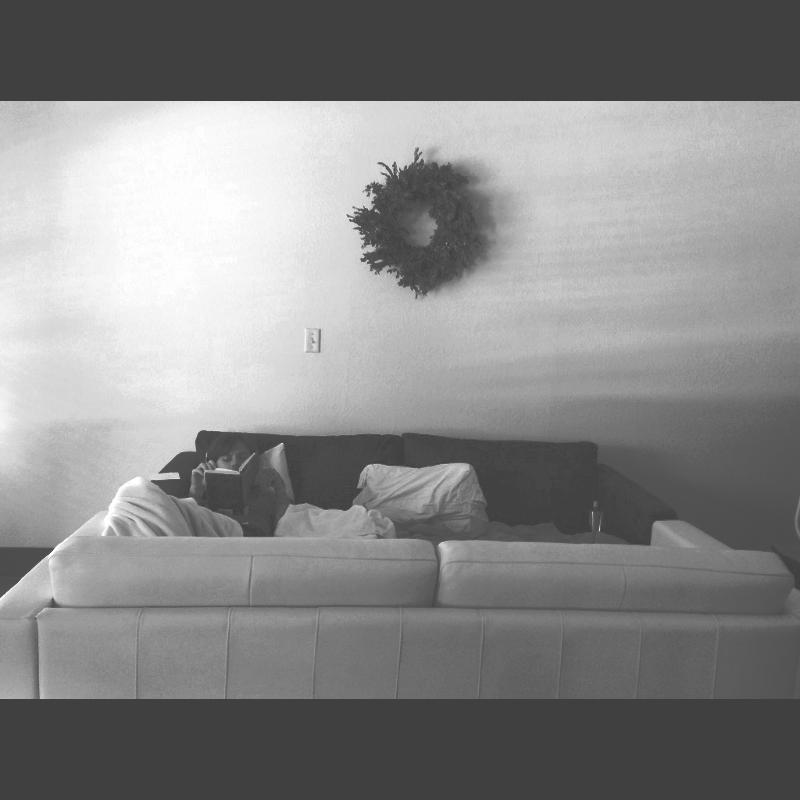pillow: (382, 432, 608, 524), (192, 435, 416, 516), (361, 466, 495, 530)
